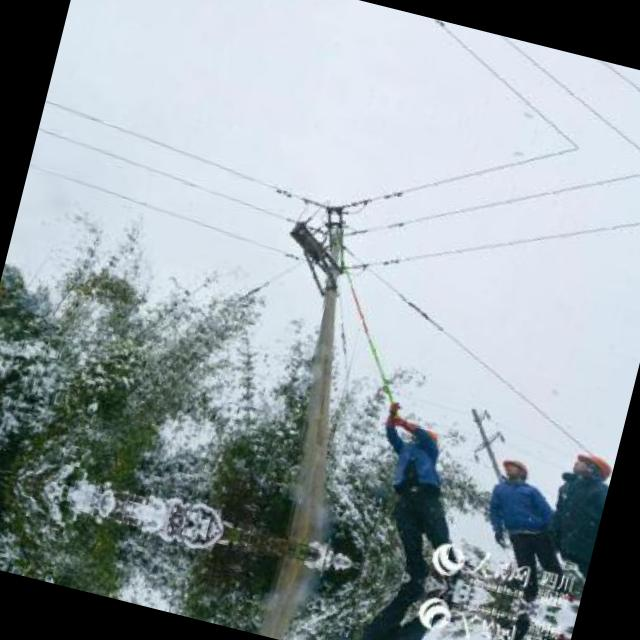helmet: (563, 444, 615, 496), (494, 448, 535, 486)
